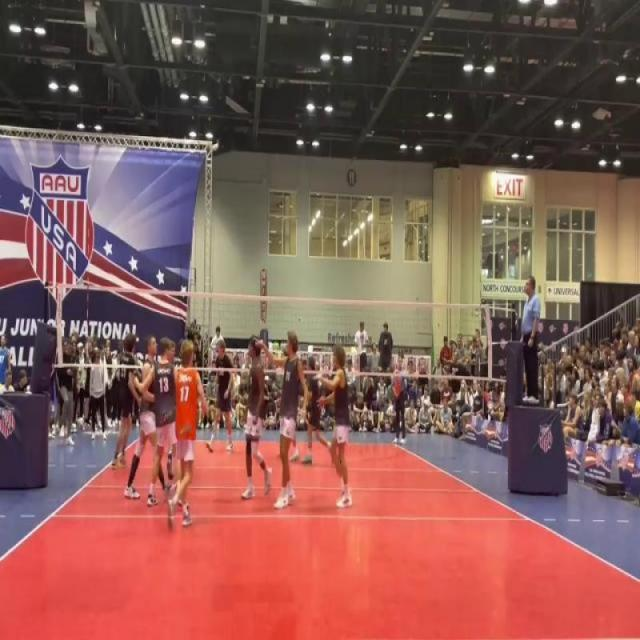volleyball: (76, 416, 85, 432)
